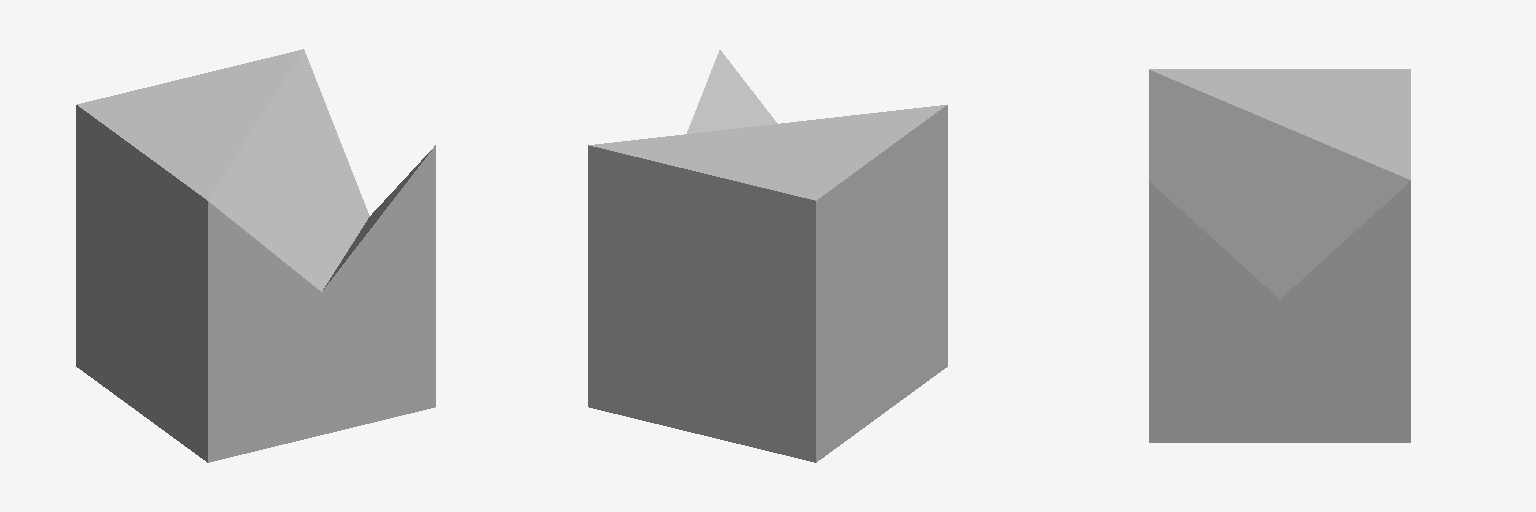
3 views of the same model, side by side, from view 1: azimuth 30°, elevation 25°; view 2: azimuth 150°, elevation 25°; view 3: azimuth 270°, elevation 25° (orthographic).
Parts seen in each view (by area): view 1: cube2; view 2: cube2; view 3: cube2.
Part boxes in pixels (left/top/right/bottom): cube2: left=76, top=49, right=435, bottom=462; cube2: left=588, top=50, right=947, bottom=462; cube2: left=1149, top=69, right=1410, bottom=442.
Size of the model in its own units: 1 by 1.1 by 1.